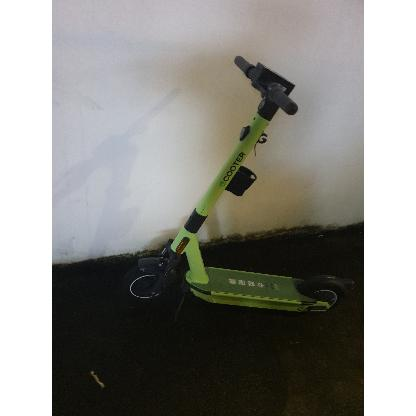bike: (125, 56, 356, 316)
